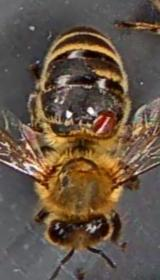varroa_mite: (85, 104, 122, 139)
